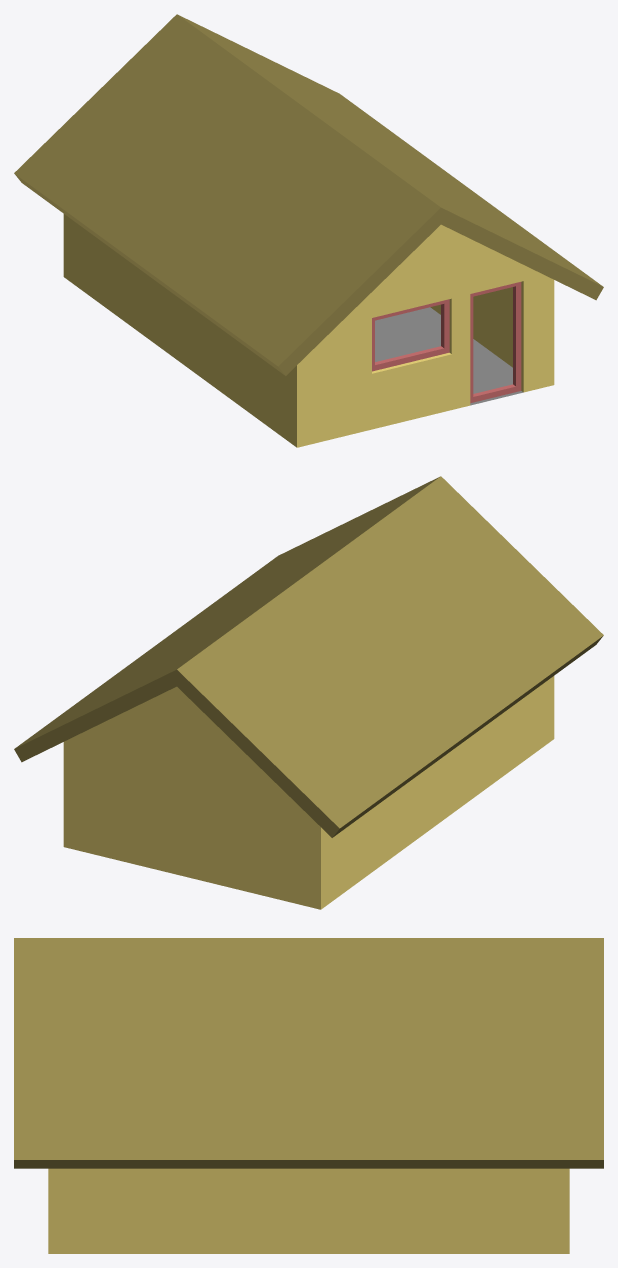
The model's file is result.glb.
3 views of the same model, one above another, from view 1: azimuth 30°, elevation 25°; view 2: azimuth 150°, elevation 25°; view 3: azimuth 270°, elevation 25° (orthographic). The views are drawn at different scales.
Parts seen in each view (by area): view 1: a31e5bca-6555-48a3-a537-fe0378979f2c__undefined (×2), 5440e4ad-7fa0-44ca-ae10-f1584c0b592d__undefined, ec46d13c-3a92-4987-9a25-dcb0fd4d216c__Plane_11, 87508883-c572-4e48-85fd-22979dfcad8f__Box, 15811352-ec1c-48b9-a1ba-c3283a8aa197__Box_3; view 2: a31e5bca-6555-48a3-a537-fe0378979f2c__undefined (×2), 5440e4ad-7fa0-44ca-ae10-f1584c0b592d__undefined; view 3: a31e5bca-6555-48a3-a537-fe0378979f2c__undefined, 5440e4ad-7fa0-44ca-ae10-f1584c0b592d__undefined.
Part boxes in pixels (x1,y1,x2,y2): a31e5bca-6555-48a3-a537-fe0378979f2c__undefined (×2): [14, 14, 603, 375]; 5440e4ad-7fa0-44ca-ae10-f1584c0b592d__undefined: [63, 214, 554, 447]; ec46d13c-3a92-4987-9a25-dcb0fd4d216c__Plane_11: [375, 307, 523, 405]; 87508883-c572-4e48-85fd-22979dfcad8f__Box: [470, 282, 521, 403]; 15811352-ec1c-48b9-a1ba-c3283a8aa197__Box_3: [372, 299, 449, 371]; a31e5bca-6555-48a3-a537-fe0378979f2c__undefined (×2): [14, 476, 603, 837]; 5440e4ad-7fa0-44ca-ae10-f1584c0b592d__undefined: [63, 676, 554, 909]; a31e5bca-6555-48a3-a537-fe0378979f2c__undefined: [14, 938, 603, 1168]; 5440e4ad-7fa0-44ca-ae10-f1584c0b592d__undefined: [48, 1168, 569, 1253].
Bounding box in the file's own units: 612 × 395 × 859.
